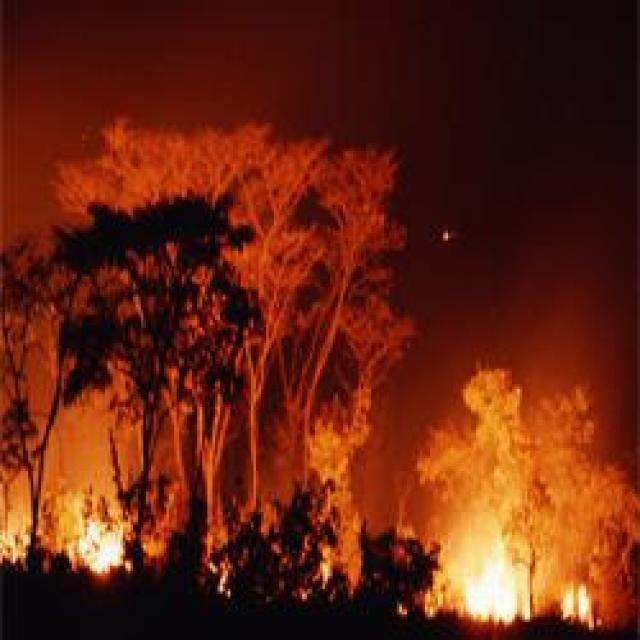Fire: (429, 532, 610, 640), (64, 504, 161, 586), (0, 513, 39, 563)
